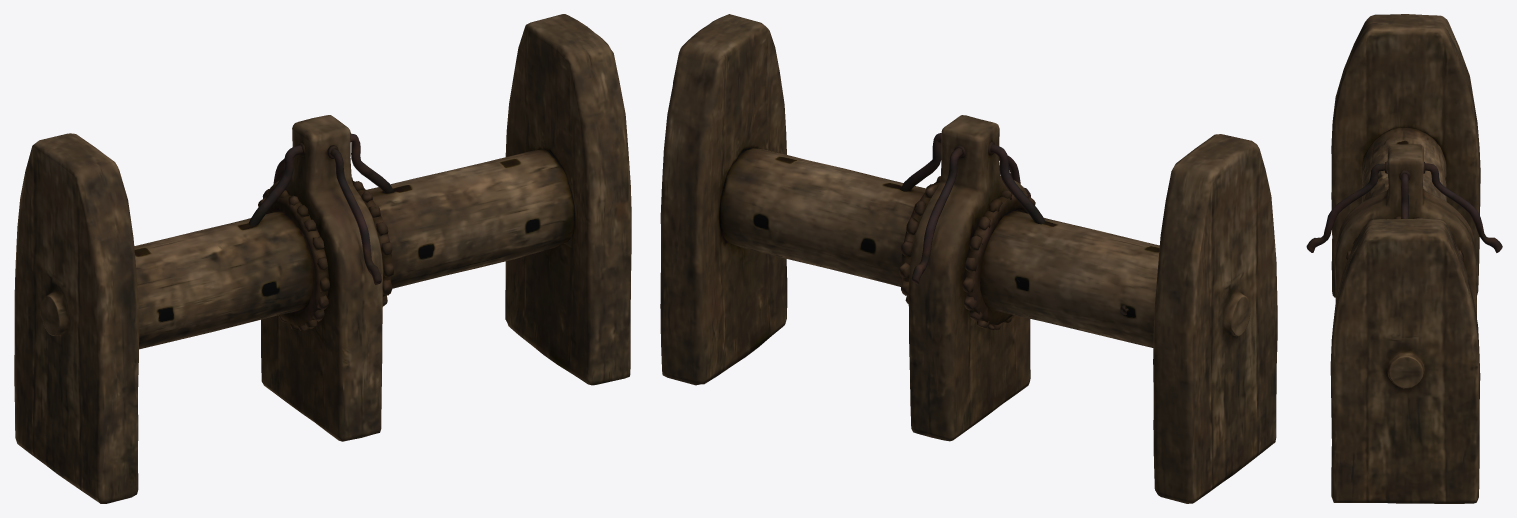
Rendered from windlass.glb.
The picture shows the model from 3 angles, left to right: view 1: azimuth 30°, elevation 25°; view 2: azimuth 150°, elevation 25°; view 3: azimuth 270°, elevation 25°; orthographic projection. The views are drawn at different scales.
Visible parts, largest first — view 1: geometry_0; view 2: geometry_0; view 3: geometry_0.
Part boxes in pixels (<box>): geometry_0: <box>14,14,631,503</box>; geometry_0: <box>660,14,1277,503</box>; geometry_0: <box>1306,14,1502,503</box>.
Size of the model in its own units: 1 by 0.5651 by 0.3672.
Materials: 1 (1 with a texture image).
